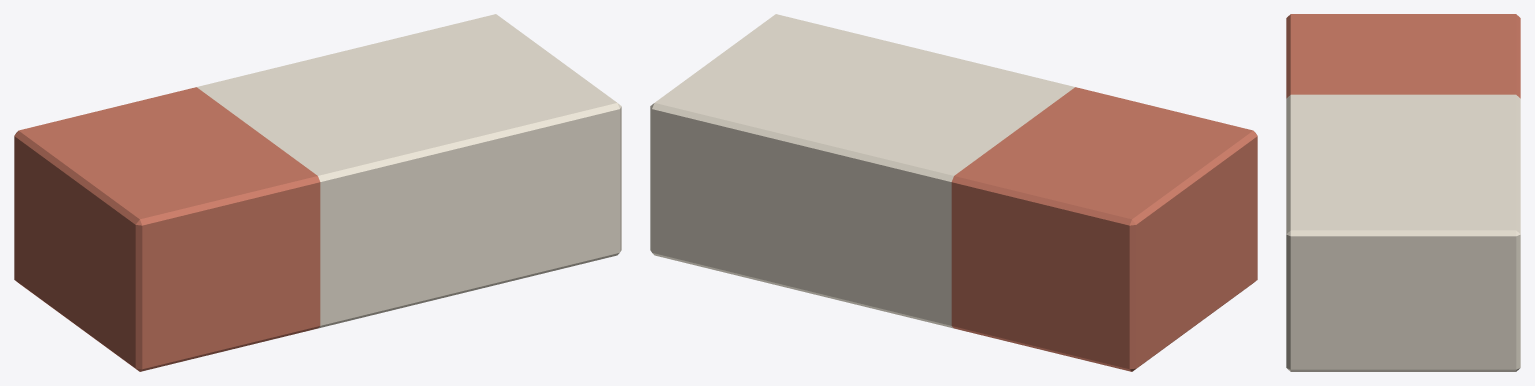
Rendered from eraser.glb.
The picture shows the model from 3 angles, left to right: view 1: azimuth 30°, elevation 25°; view 2: azimuth 150°, elevation 25°; view 3: azimuth 270°, elevation 25°; orthographic projection. The views are drawn at different scales.
Visible parts, largest first — view 1: Two-tone eraser; view 2: Two-tone eraser; view 3: Two-tone eraser.
Boxes of the visible parts, x1,y1,x2,y2 form: Two-tone eraser: (14,14,621,371); Two-tone eraser: (650,14,1257,371); Two-tone eraser: (1286,14,1520,371).
Size of the model in its own units: 0.04 by 0.012 by 0.018.
